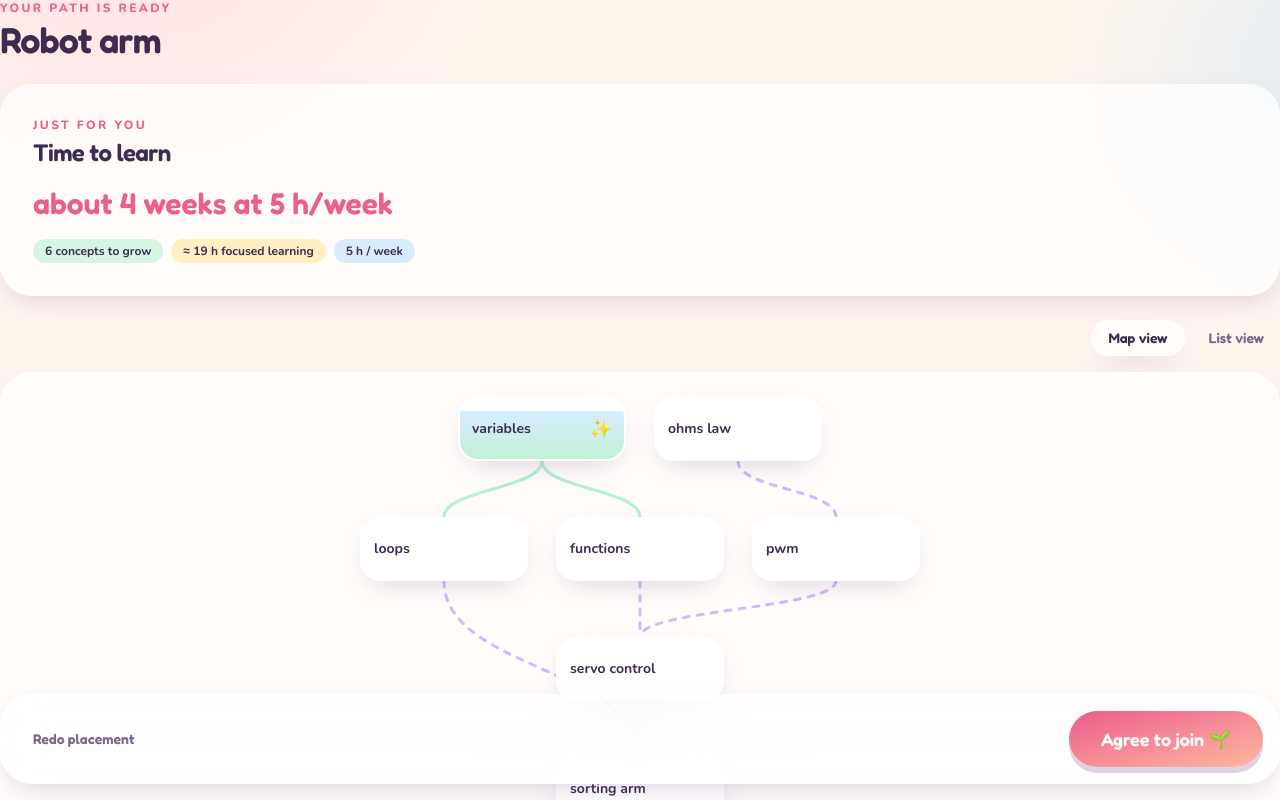
Test case: Agree to join › creates the active track and strategy, then opens the first task
The width and height of the screenshot is (1280, 800).
Click the button "Agree to join 🌱". click: (1166, 739)
box: [1069,711,1263,767]
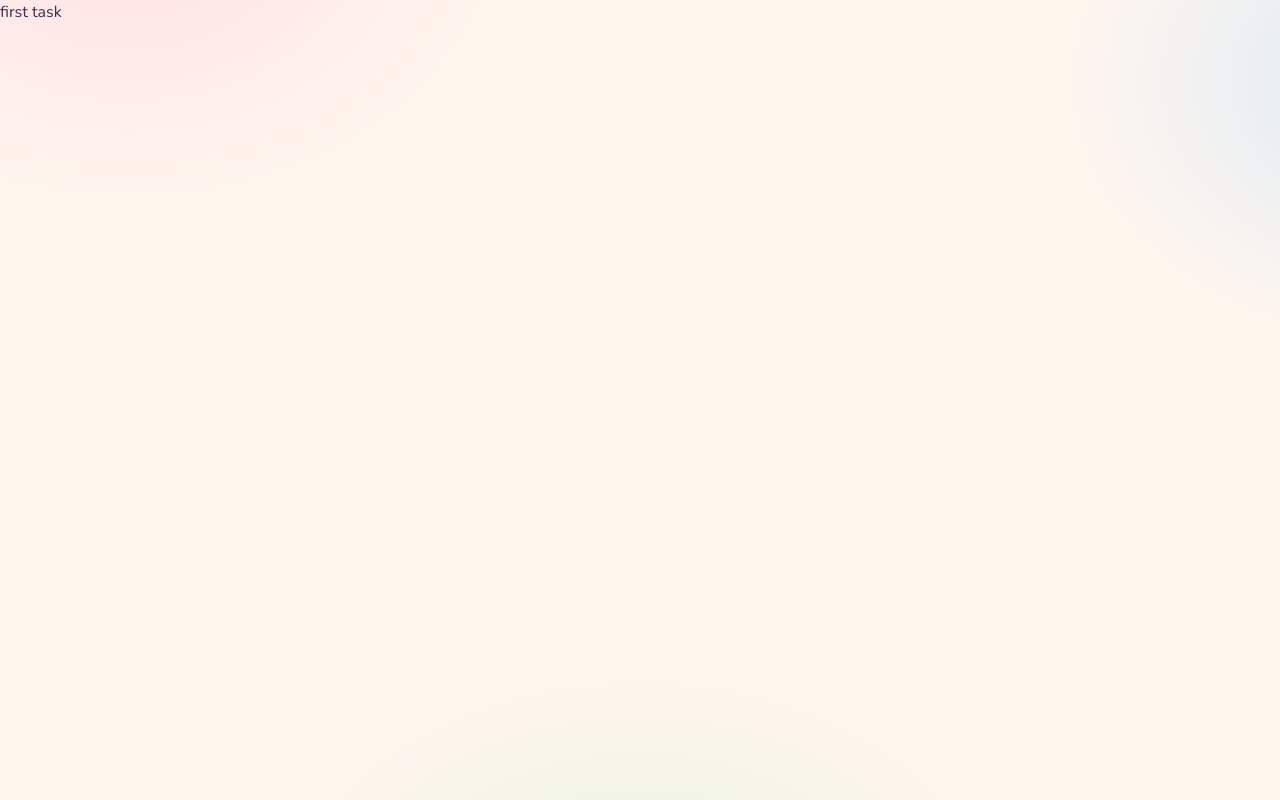
Check: the text "first task" is shown, box [0,1,62,23]
